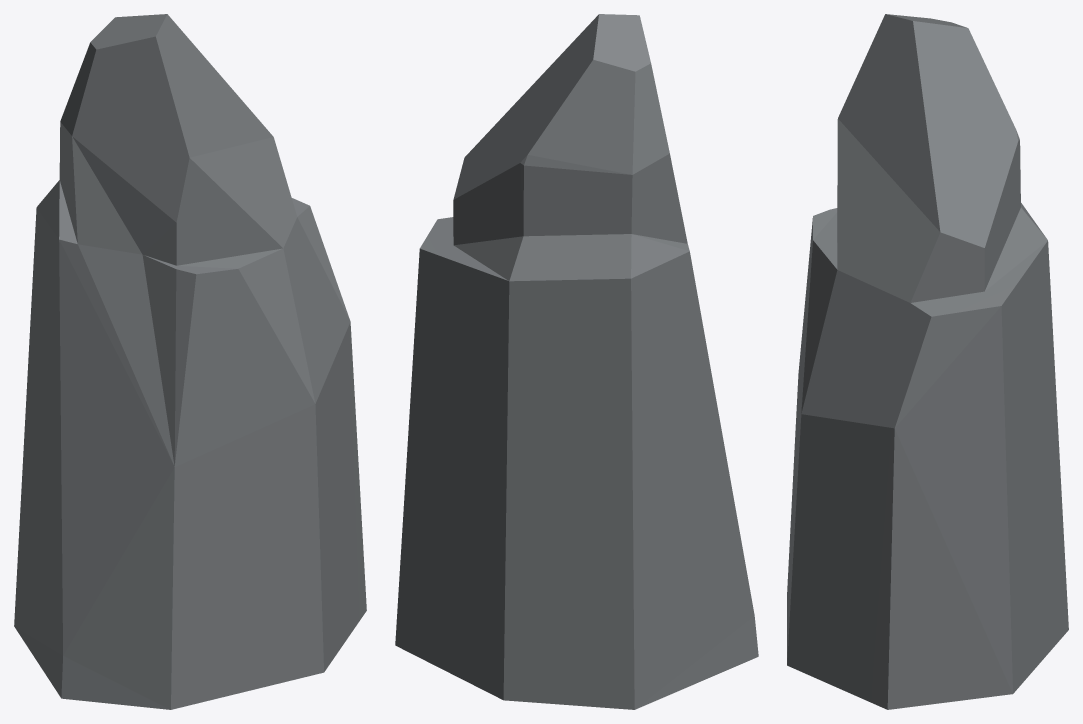
File: Rock_Round_l_06.fbx
3 views of the same model, side by side, from view 1: azimuth 30°, elevation 25°; view 2: azimuth 150°, elevation 25°; view 3: azimuth 270°, elevation 25° (orthographic). The views are drawn at different scales.
Parts seen in each view (by area): view 1: Rock_Round_l_06; view 2: Rock_Round_l_06; view 3: Rock_Round_l_06.
Boxes of the visible parts, x1,y1,x2,y2 form: Rock_Round_l_06: [14, 14, 366, 709]; Rock_Round_l_06: [395, 14, 758, 709]; Rock_Round_l_06: [787, 14, 1068, 709].
Size of the model in its own units: 102 by 194 by 82.11.
